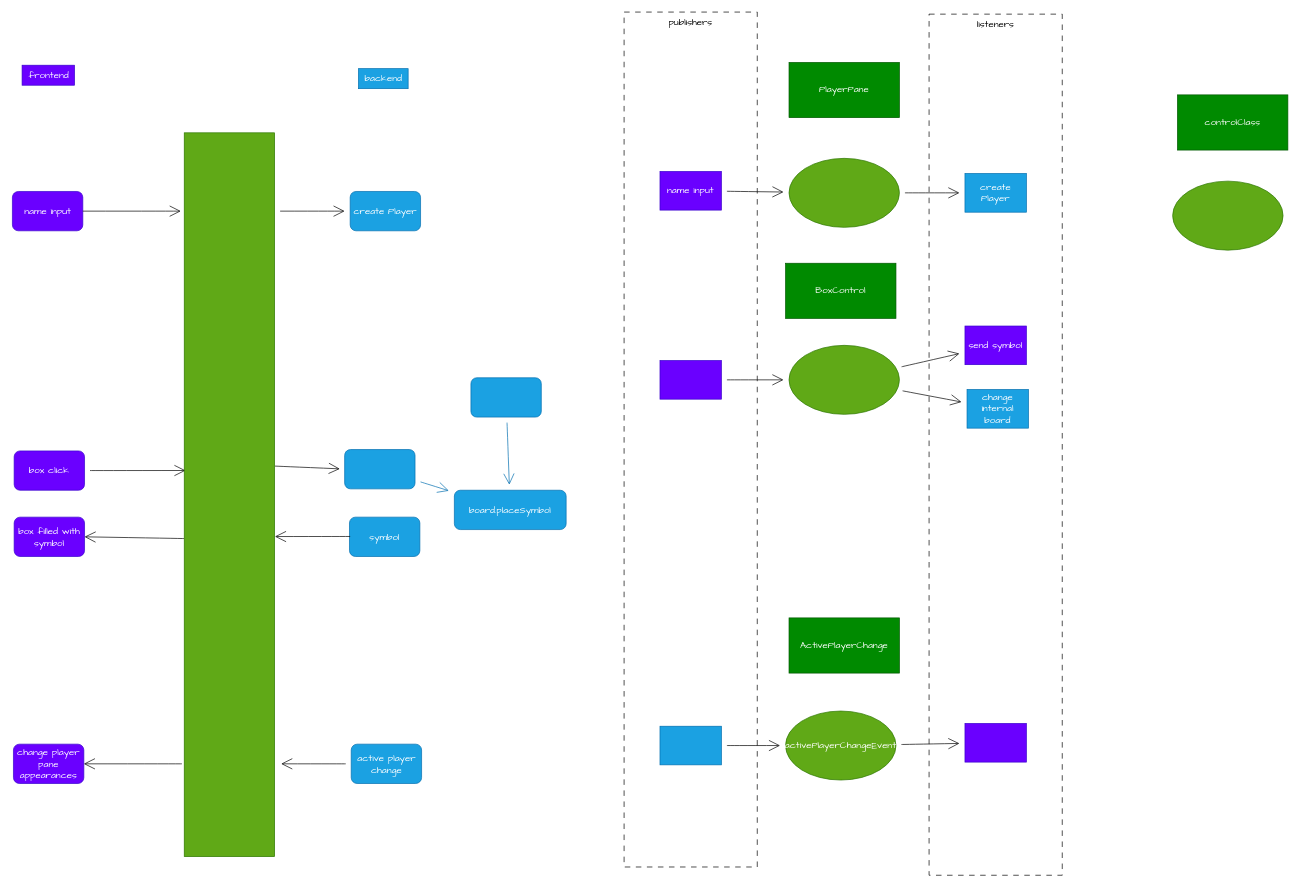
Some shapes in this 1300 by 887 pixel diagram are drawn without their labels. Each missing label, with the centre of its shape:
acitve player change: the point at 690,745
active player (symbol): the point at 505,397
box.click: the point at 690,379
Event: the point at 1227,215
EVENTBUS: the point at 229,494
placedSymbolEvent: the point at 843,379
player pane appearance: the point at 995,742
position: the point at 379,469
ProvidedNameEvent: the point at 843,192
